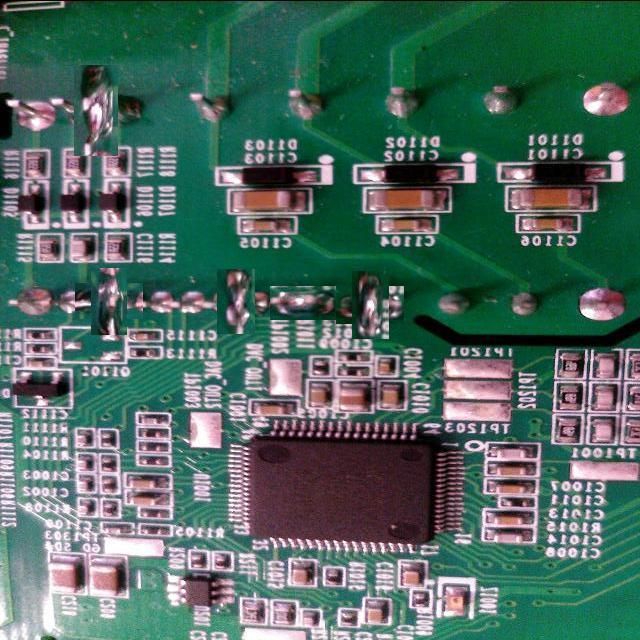Short_circuit: (62, 76, 130, 144), (83, 275, 135, 327), (210, 275, 262, 327), (344, 279, 396, 331), (270, 286, 336, 320)
